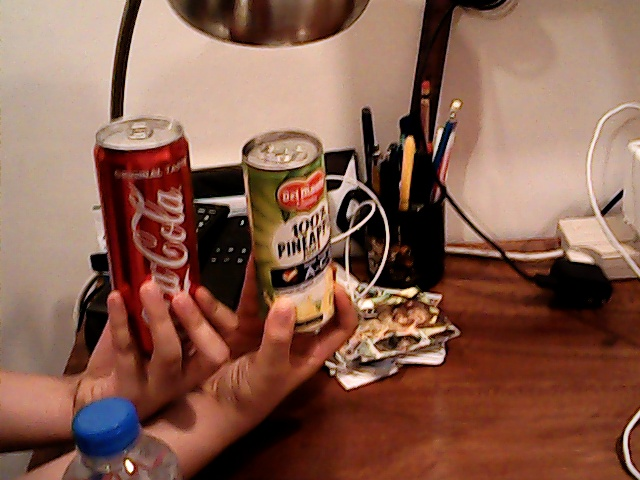Cola: (88, 116, 207, 319)
Pine Juice: (234, 117, 339, 344)
